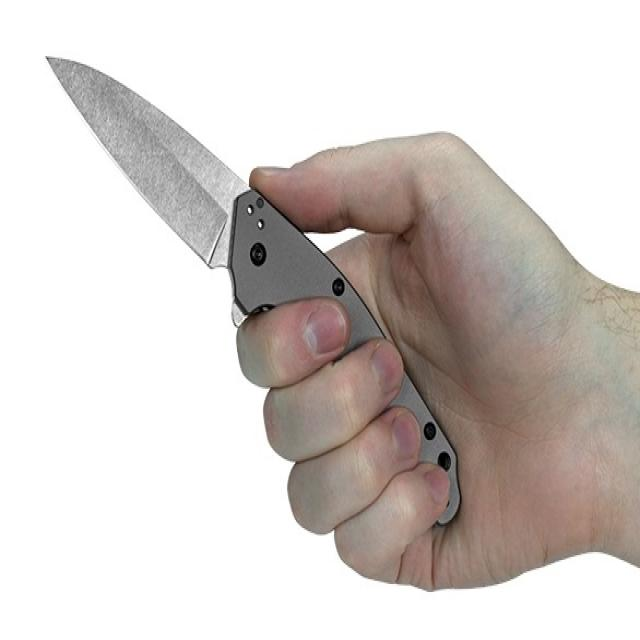knife: (42, 51, 463, 531)
